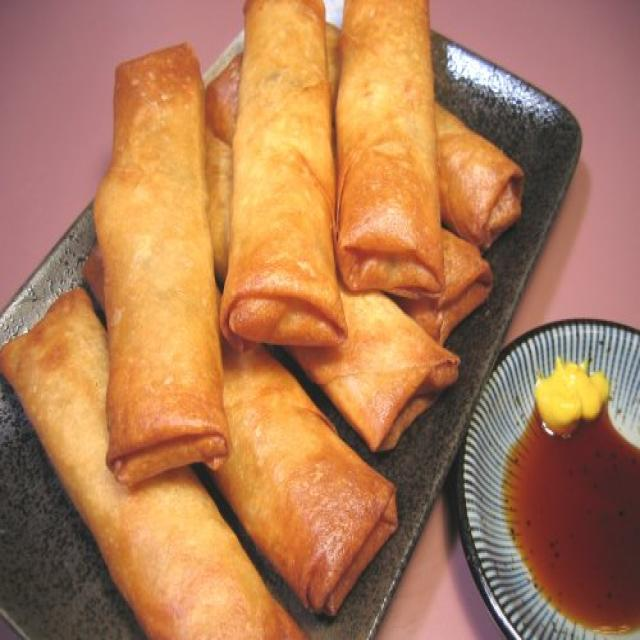鸡蛋料理: (96, 0, 452, 396)
